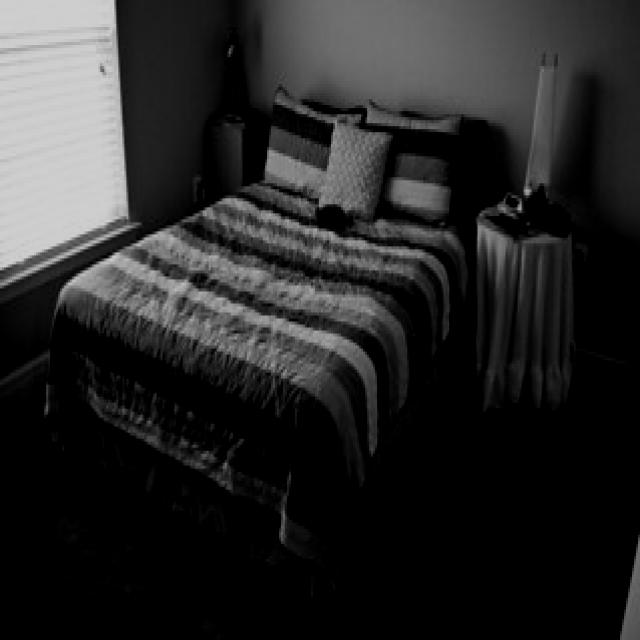bed: (47, 98, 488, 554)
